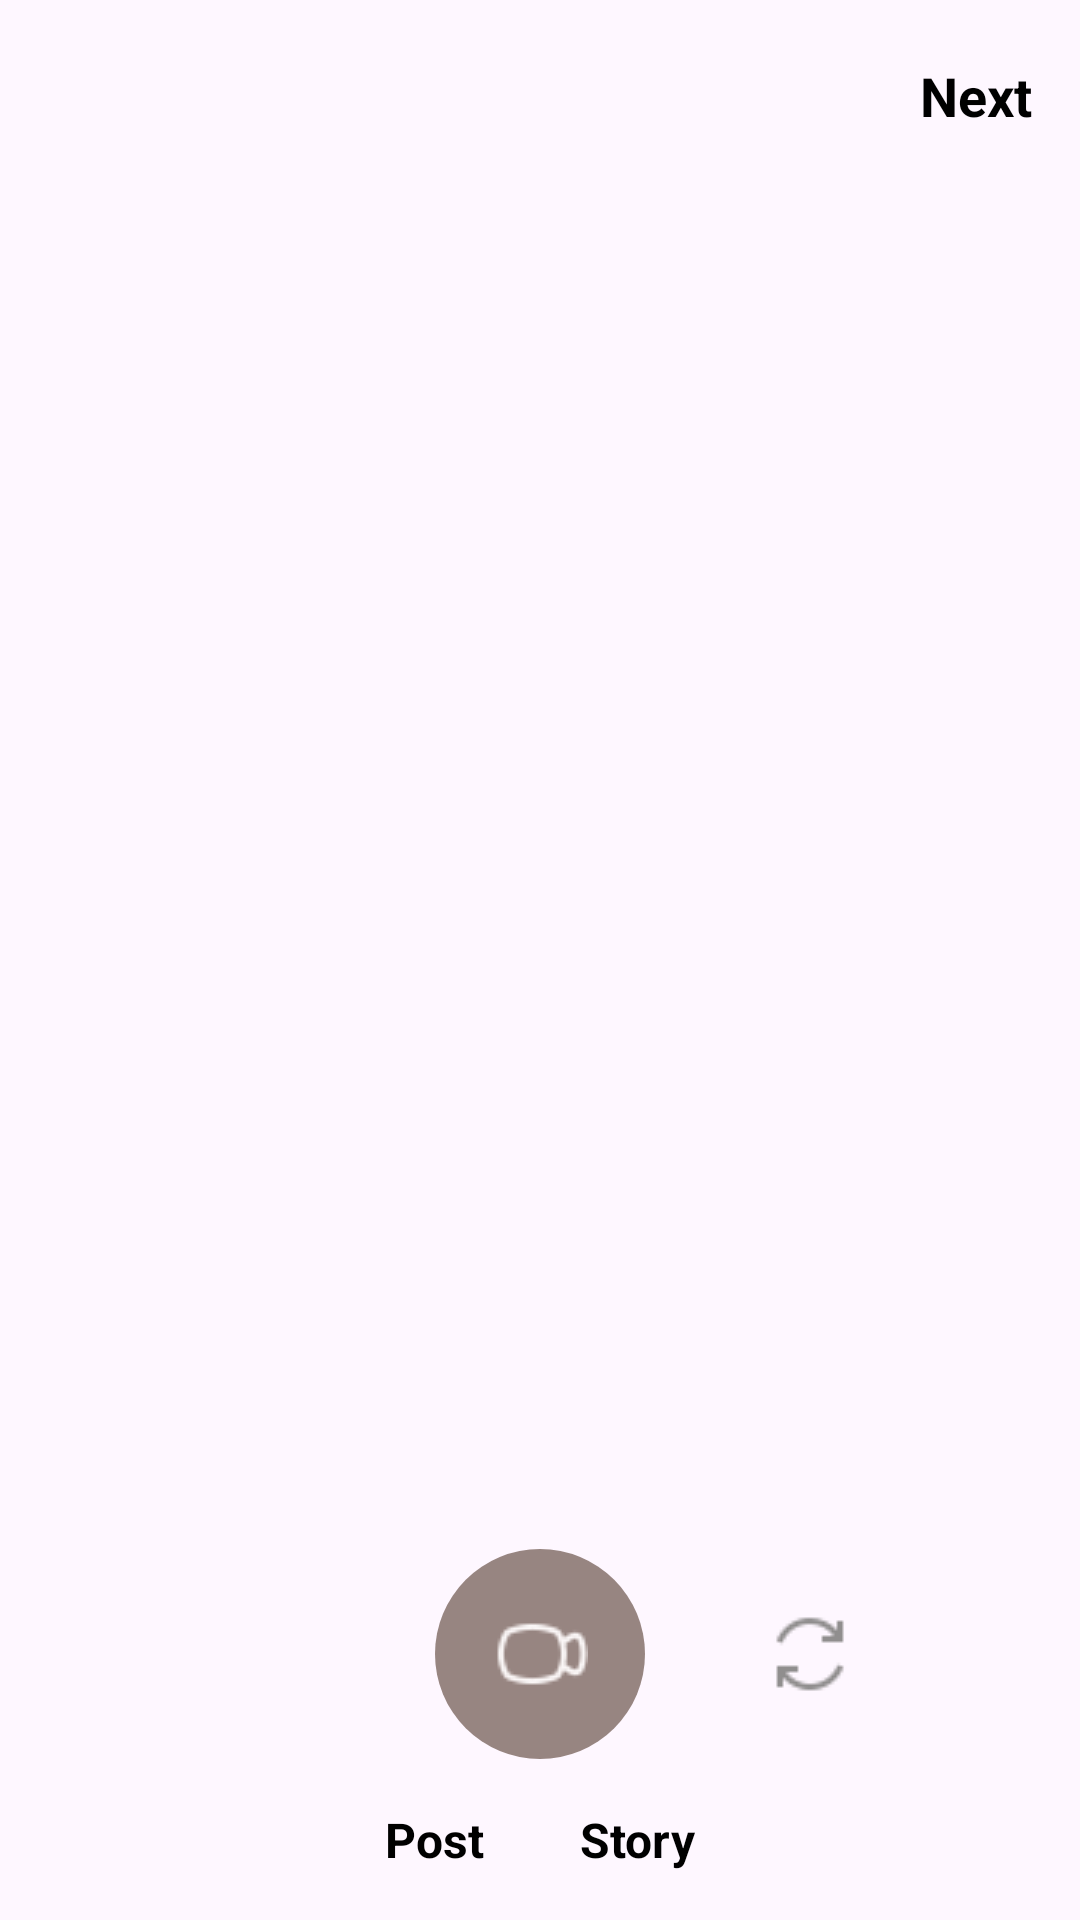

Screen size 1080x1920. Icon name, then its box in pixels as (x1, y1, x2, y2):
switch camera: (776, 1617, 844, 1691)
vidcall: (435, 1549, 645, 1759)
